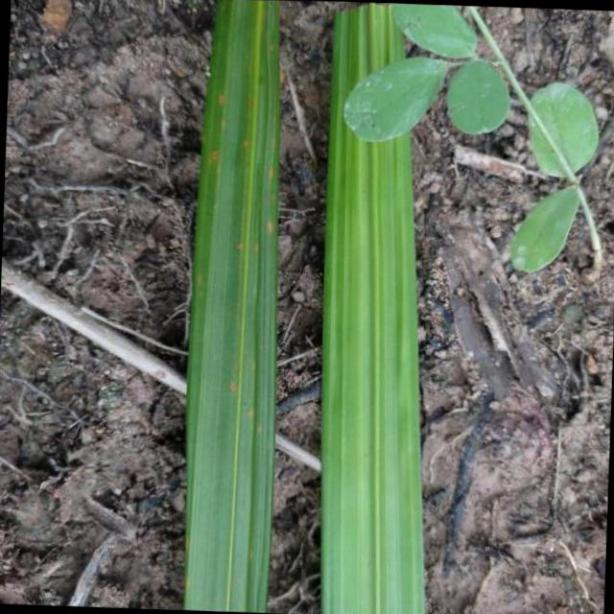nitrogen: (318, 0, 427, 614), (186, 0, 278, 614)
